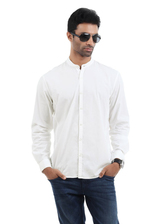clothoes: (27, 58, 131, 186)
glasses: (69, 31, 105, 45)
